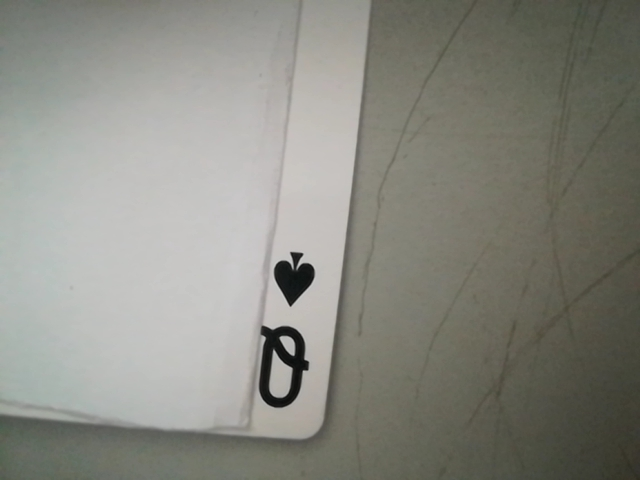ht q: (245, 243, 331, 423)
